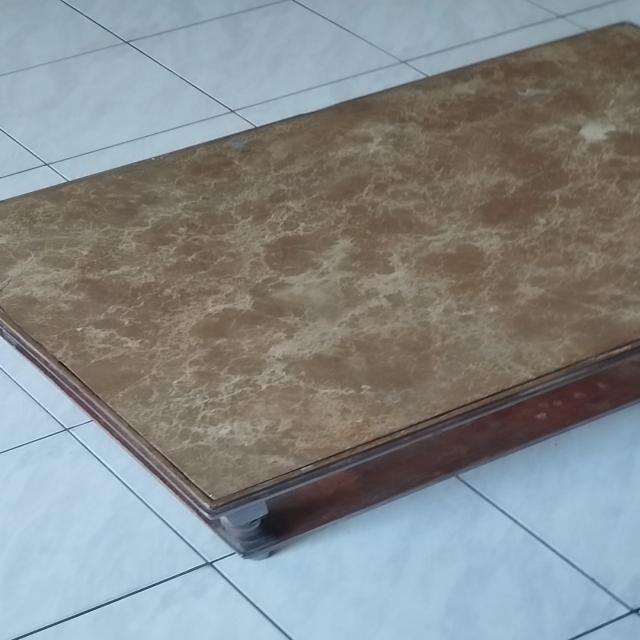table: (0, 20, 640, 557)
